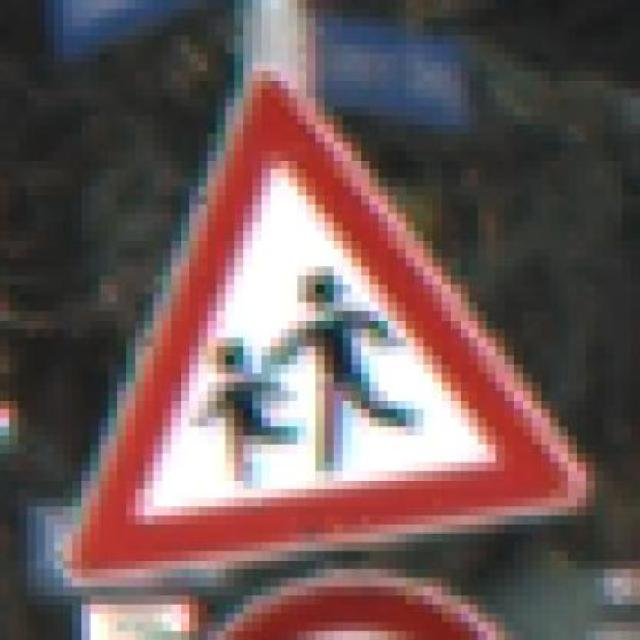Beware of children: (36, 71, 596, 578)
